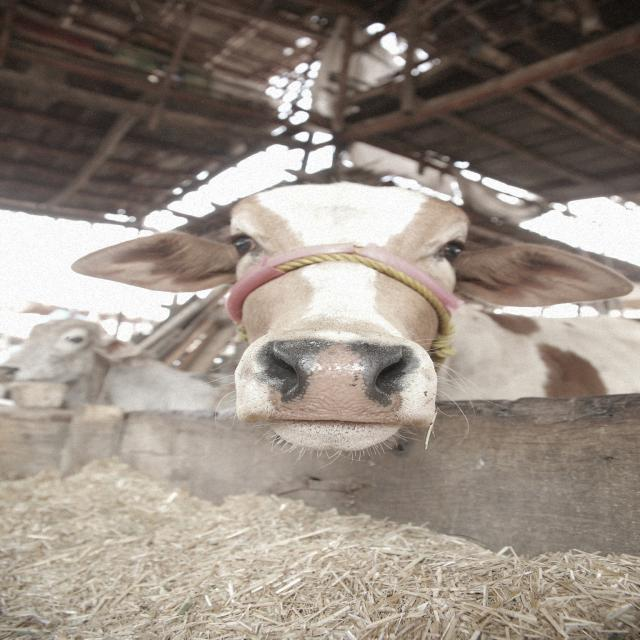muzzles: (232, 329, 436, 428)
